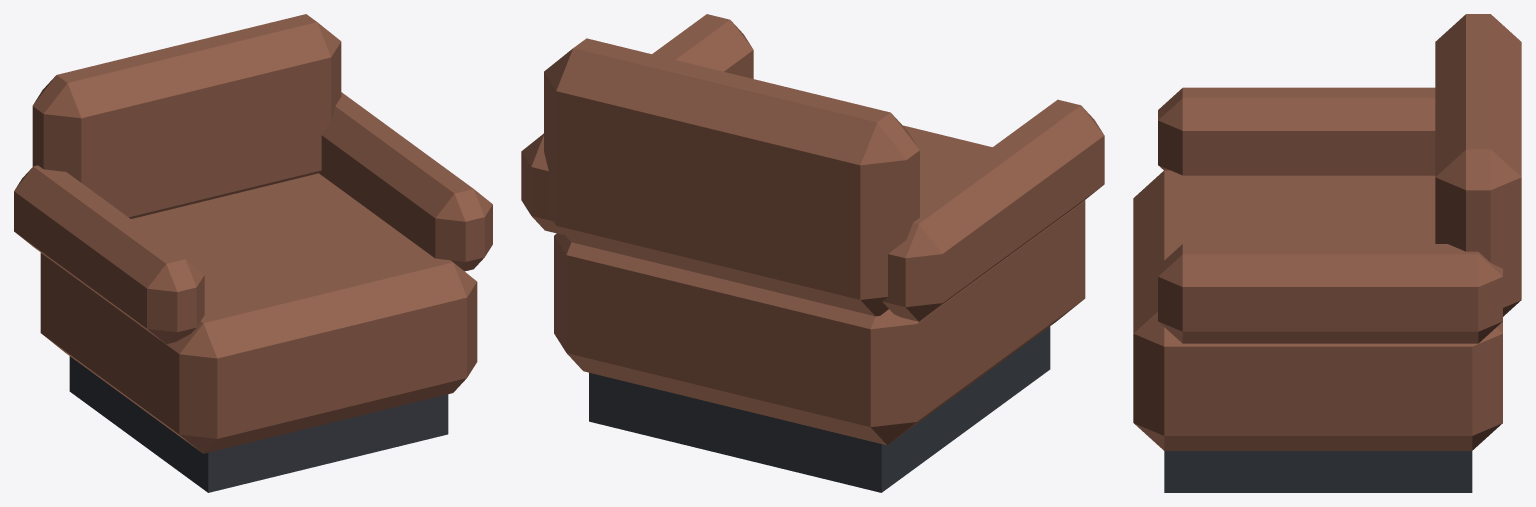
The model's file is armchair.glb.
3 views of the same model, side by side, from view 1: azimuth 30°, elevation 25°; view 2: azimuth 150°, elevation 25°; view 3: azimuth 270°, elevation 25° (orthographic). The views are drawn at different scales.
Parts seen in each view (by area): view 1: armchair_mesh; view 2: armchair_mesh; view 3: armchair_mesh.
Boxes of the visible parts, bbox=[...] form: armchair_mesh: bbox=[14, 14, 492, 492]; armchair_mesh: bbox=[521, 14, 1104, 492]; armchair_mesh: bbox=[1133, 14, 1521, 492].
Bounding box in the file's own units: 0.72 × 0.62 × 0.63.
